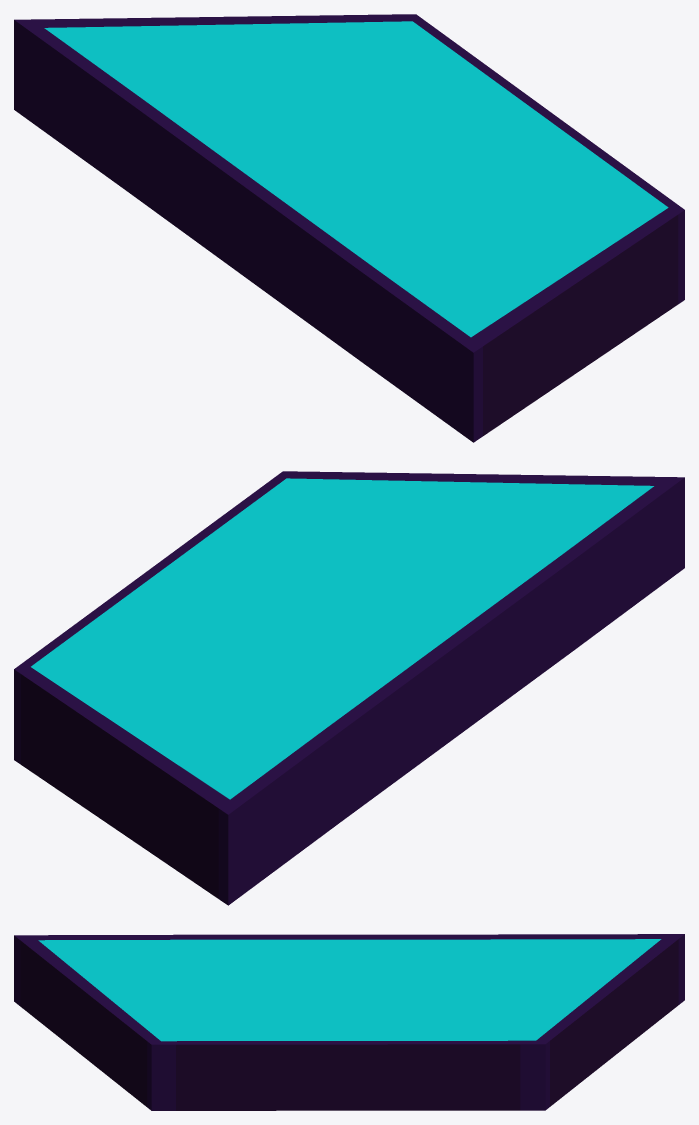
The model's file is plataforma2_id_mesh.fbx.
3 renders of one model, top to bottom at view 1: azimuth 30°, elevation 25°; view 2: azimuth 150°, elevation 25°; view 3: azimuth 270°, elevation 25°, orthographic. The views are drawn at different scales.
Visible parts, largest first — view 1: plataforma2; view 2: plataforma2; view 3: plataforma2.
Part boxes in pixels (<box>): plataforma2: <box>14,14,684,442</box>; plataforma2: <box>14,471,684,905</box>; plataforma2: <box>14,934,684,1110</box>.
Bounding box in the file's own units: 7.7 × 2.15 × 19.72.
